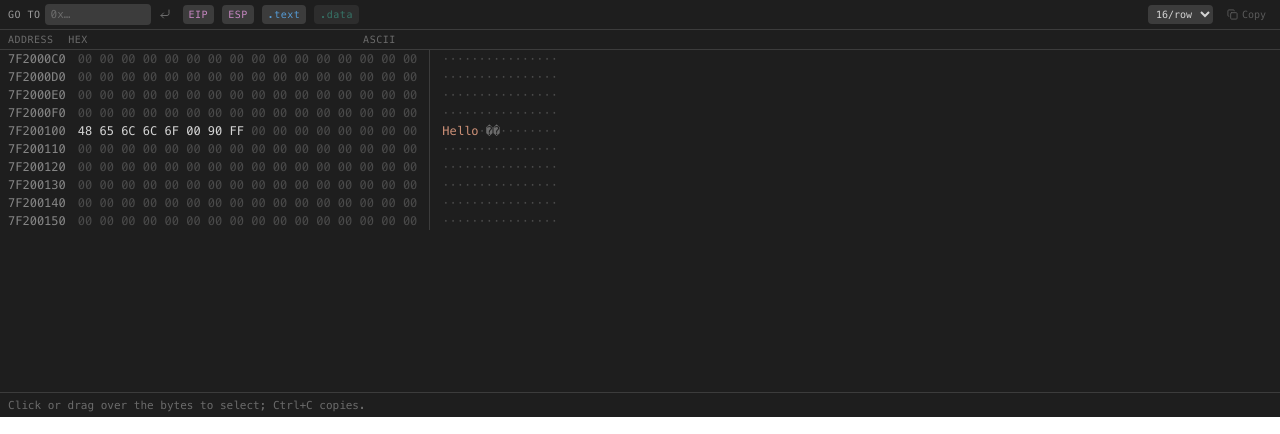
it: clique direito fora da selecao passa a selecionar o byte de baixo
This screenshot has width=1280, height=434.
Press the mouse on the text "48" at (85, 130), box [78,122,92,140]
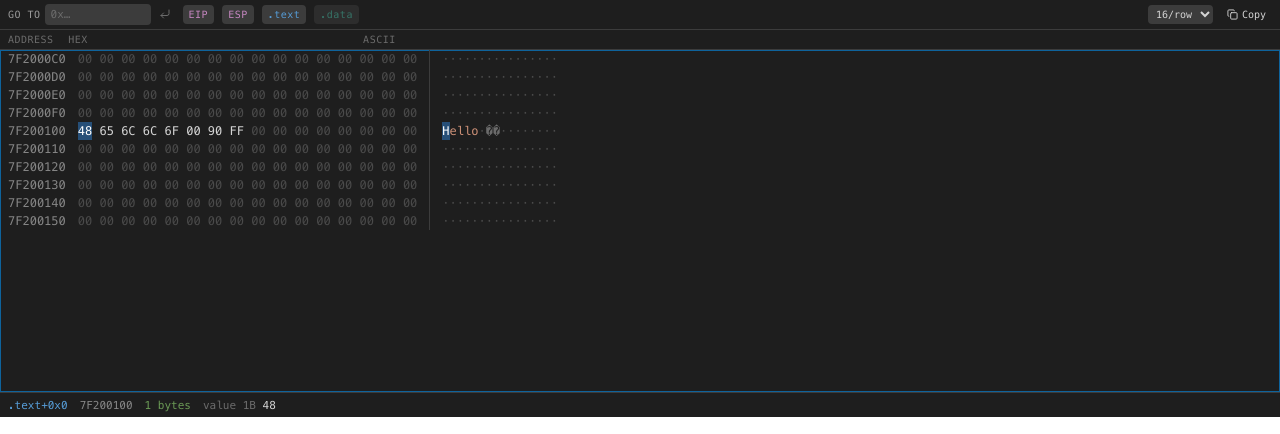
Right-click the text "90" at (215, 130), box [208,122,222,140]
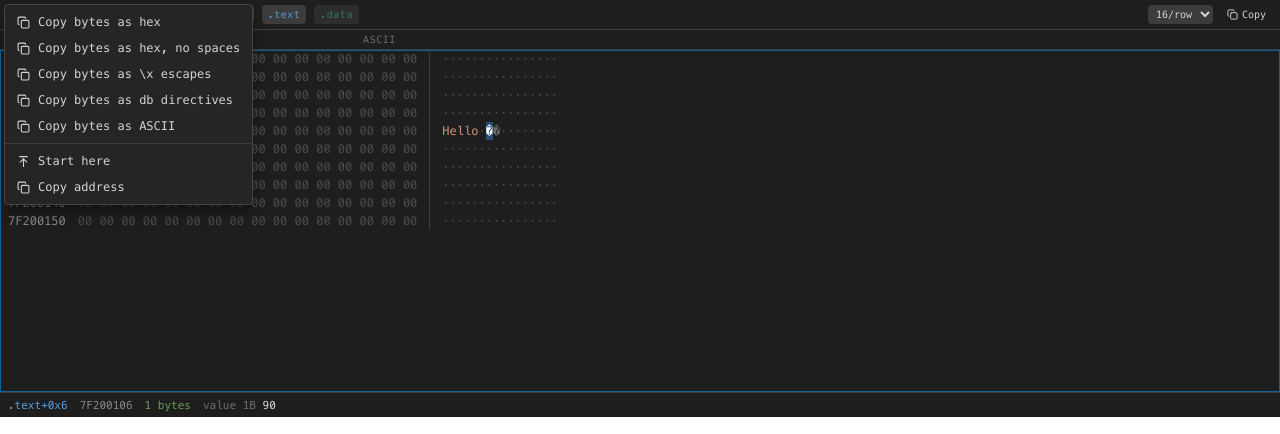
Expected: the footer shows "1 bytes", [0,392,1279,417]
Expected: the footer shows "7F200106", [80,398,133,412]
